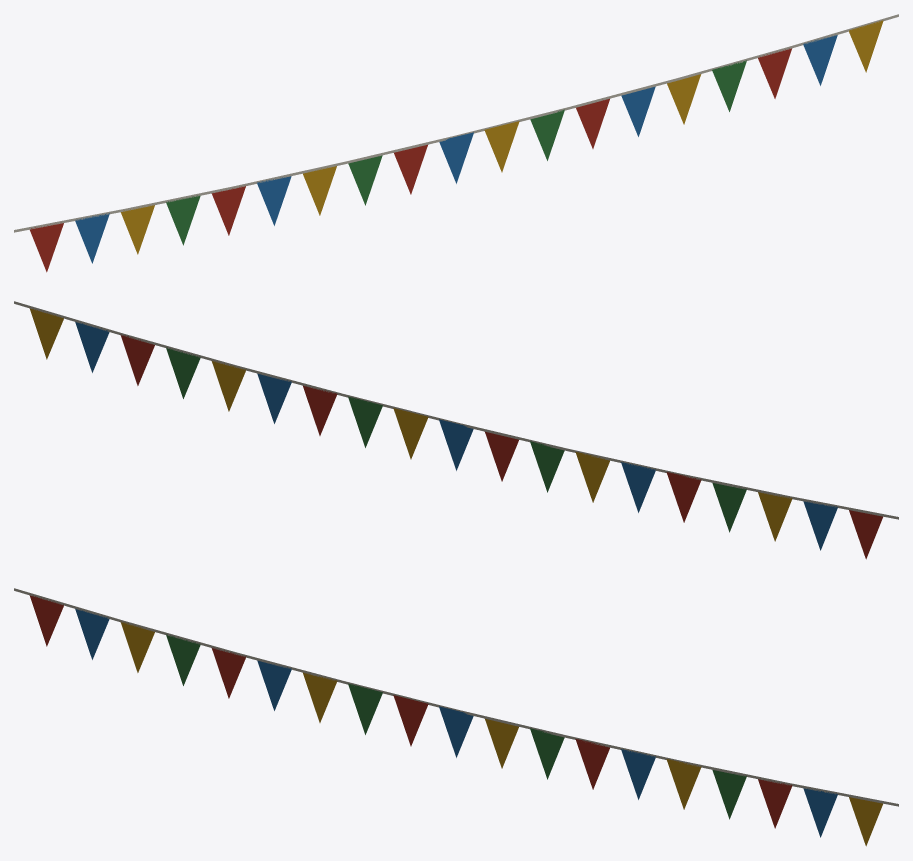
Rendered from board.pennants.bright.glb.
3 views of the same model, one above another, from view 1: azimuth 30°, elevation 25°; view 2: azimuth 150°, elevation 25°; view 3: azimuth 330°, elevation 25° (orthographic).
Visible parts, largest first — view 1: board_pennants_bright; view 2: board_pennants_bright; view 3: board_pennants_bright.
Part boxes in pixels (x1,y1,x2,y2): board_pennants_bright: [14, 14, 898, 272]; board_pennants_bright: [14, 301, 898, 559]; board_pennants_bright: [14, 588, 898, 846].
Size of what is drawn, in the model's own units: 7 by 0.47 by 0.
